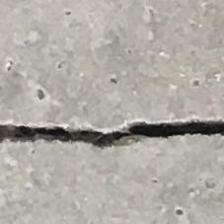Crack: (0, 110, 224, 153)
